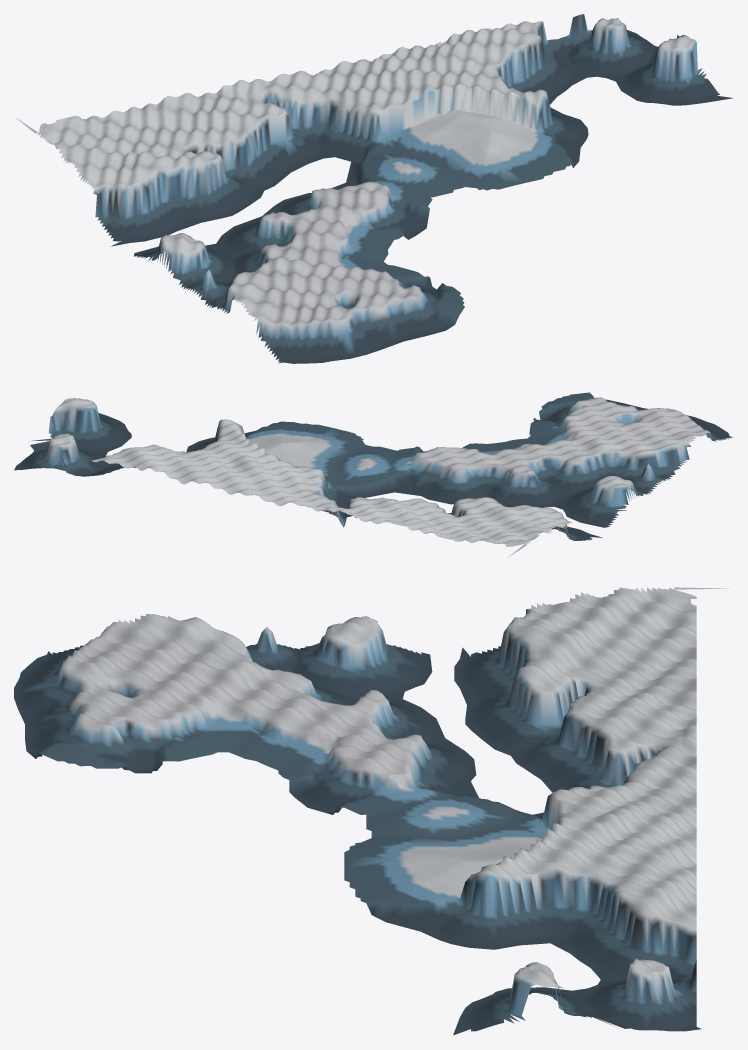
Rendered from frost_tile_x1z1.glb.
3 renders of one model, top to bottom at view 1: azimuth 30°, elevation 25°; view 2: azimuth 150°, elevation 25°; view 3: azimuth 270°, elevation 25°, orthographic. The views are drawn at different scales.
Parts seen in each view (by area): view 1: geometry_0; view 2: geometry_0; view 3: geometry_0.
Boxes of the visible parts, bbox=[...] form: geometry_0: bbox=[15, 14, 733, 363]; geometry_0: bbox=[14, 392, 733, 557]; geometry_0: bbox=[14, 587, 728, 1035].
Bounding box in the file's own units: 1009 × 78 × 785.
